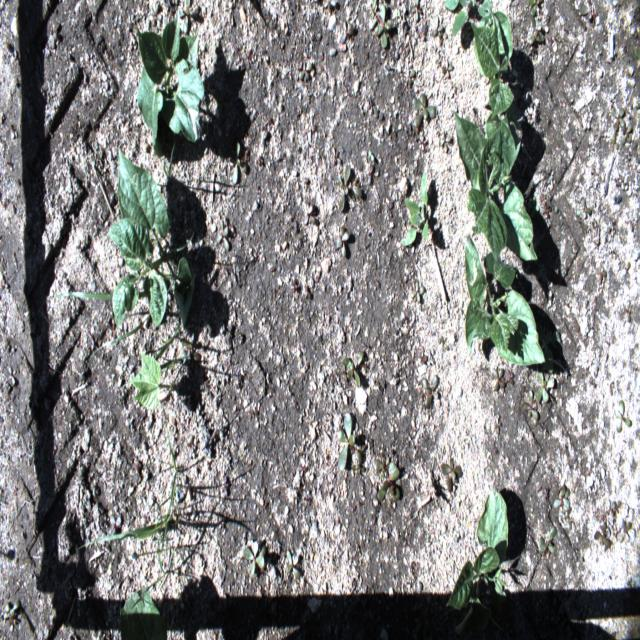crop: (103, 142, 194, 331), (448, 108, 536, 263), (135, 0, 207, 159), (469, 18, 528, 186), (445, 491, 509, 636), (132, 354, 187, 412), (118, 584, 168, 640)
weed: (78, 433, 184, 569), (463, 229, 549, 365), (60, 292, 149, 358), (444, 0, 515, 59), (401, 169, 429, 249), (372, 447, 401, 501), (371, 0, 394, 50), (337, 415, 356, 470), (243, 534, 265, 579), (342, 352, 366, 388), (297, 199, 325, 229), (231, 141, 249, 187), (526, 0, 543, 43), (441, 458, 462, 490), (162, 142, 176, 188), (421, 374, 439, 409), (591, 522, 615, 548), (550, 487, 571, 516), (537, 370, 557, 400), (338, 168, 350, 215), (414, 92, 435, 118), (616, 400, 631, 436), (287, 550, 302, 584), (598, 497, 620, 520), (538, 528, 556, 556), (522, 384, 536, 420), (333, 228, 350, 256), (488, 365, 506, 388), (499, 366, 516, 389), (298, 57, 314, 81), (1, 600, 20, 619), (623, 294, 634, 324), (618, 517, 631, 542), (412, 280, 423, 303), (613, 108, 624, 126), (438, 136, 452, 150)
